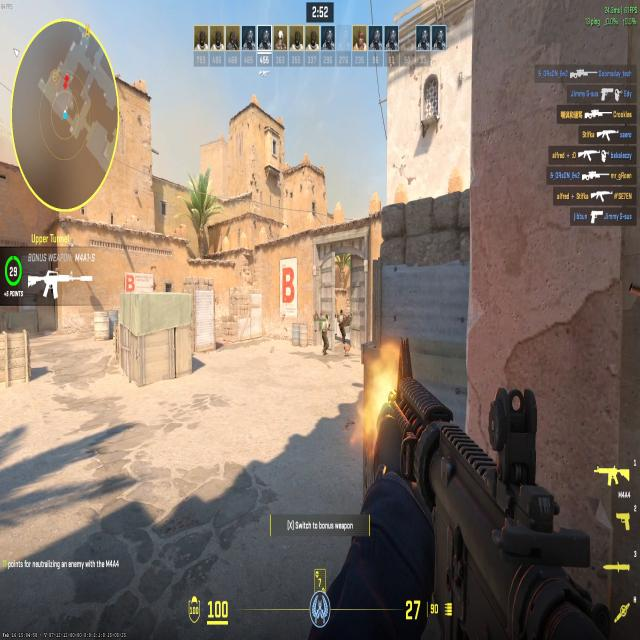player: (319, 310, 333, 360), (338, 309, 348, 339)
